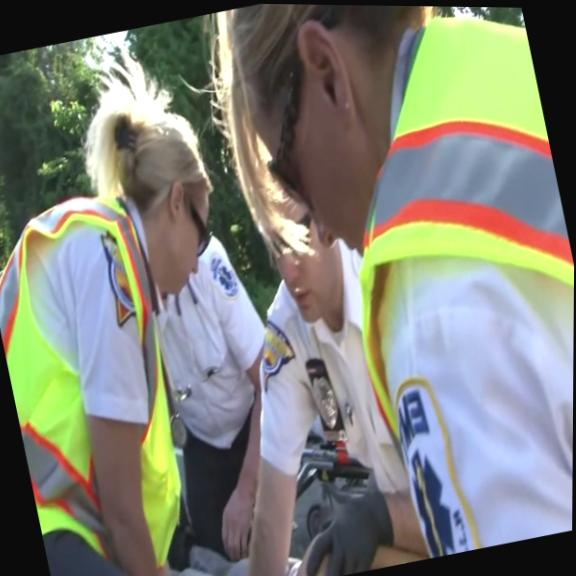safety_vest: (293, 4, 576, 565), (0, 184, 212, 576)
